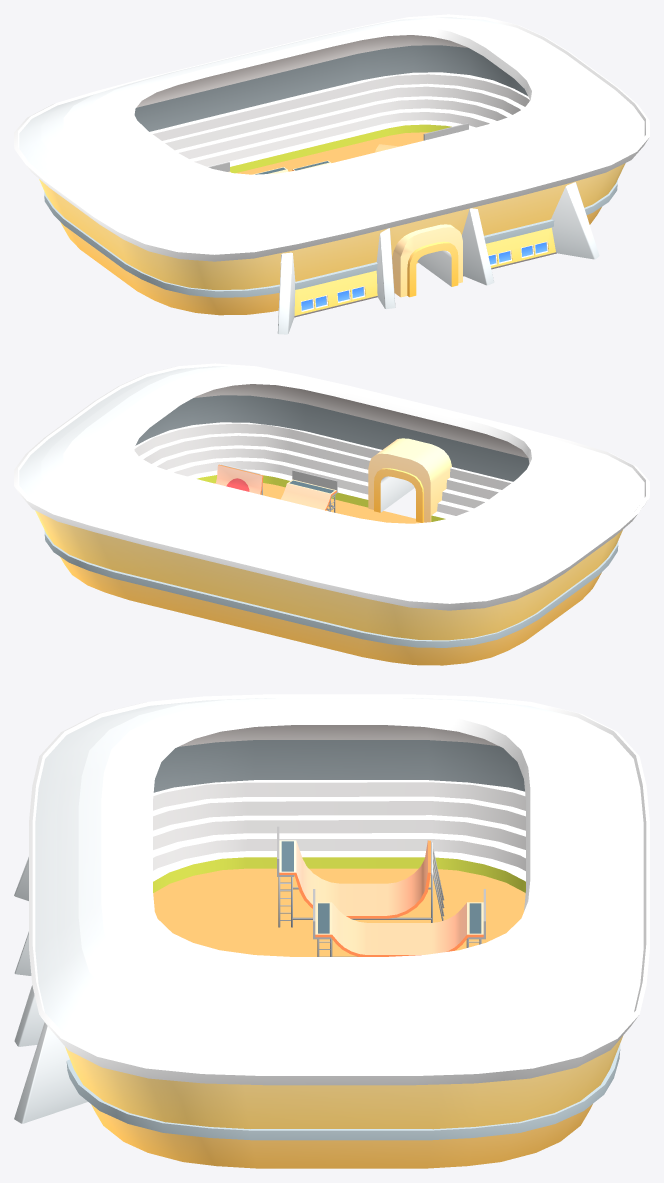
File: Stadium_05.glb
The picture shows the model from 3 angles, top to bottom: view 1: azimuth 30°, elevation 25°; view 2: azimuth 150°, elevation 25°; view 3: azimuth 270°, elevation 25°; orthographic projection. The views are drawn at different scales.
Visible parts, largest first — view 1: Stadium_05; view 2: Stadium_05; view 3: Stadium_05.
Boxes of the visible parts, box(x1,y1,x2,y2) form: Stadium_05: box(14, 14, 649, 334); Stadium_05: box(14, 363, 649, 665); Stadium_05: box(14, 694, 649, 1168).
Bounding box in the file's own units: 66.77 × 14.14 × 47.06.
Materials: 1 (1 with a texture image).
